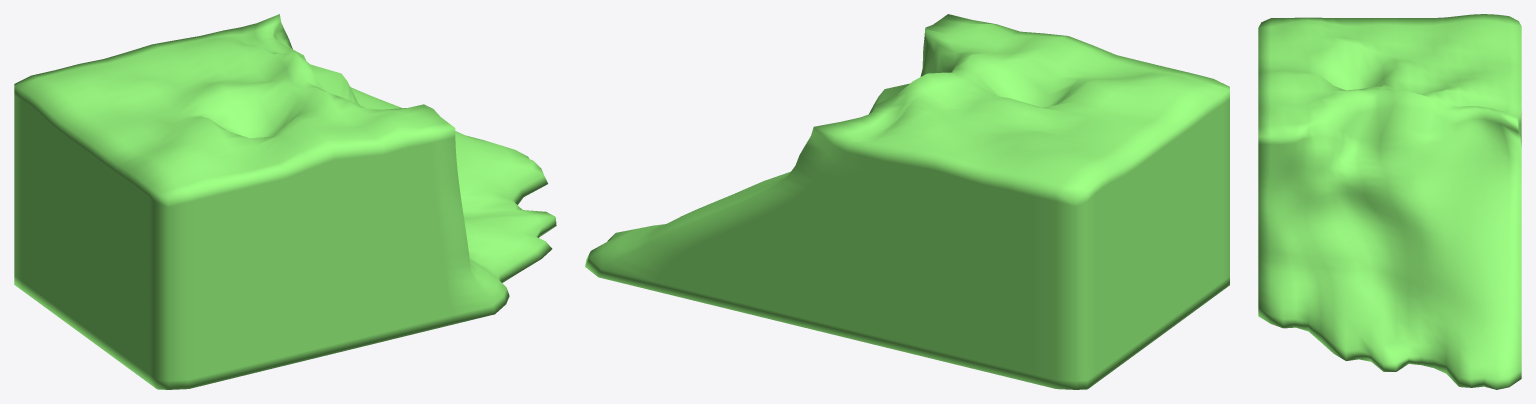
The model's file is menta_casi_lleno.fbx.
3 renders of one model, left to right at view 1: azimuth 30°, elevation 25°; view 2: azimuth 150°, elevation 25°; view 3: azimuth 270°, elevation 25°, orthographic. The views are drawn at different scales.
Parts seen in each view (by area): view 1: Menta_Casi_Lleno; view 2: Menta_Casi_Lleno; view 3: Menta_Casi_Lleno.
Part boxes in pixels (box(x1,y1,x2,y2)): Menta_Casi_Lleno: box(14, 14, 556, 389); Menta_Casi_Lleno: box(585, 14, 1229, 389); Menta_Casi_Lleno: box(1258, 14, 1521, 389).
Size of the model in its own units: 353 by 144 by 189.
